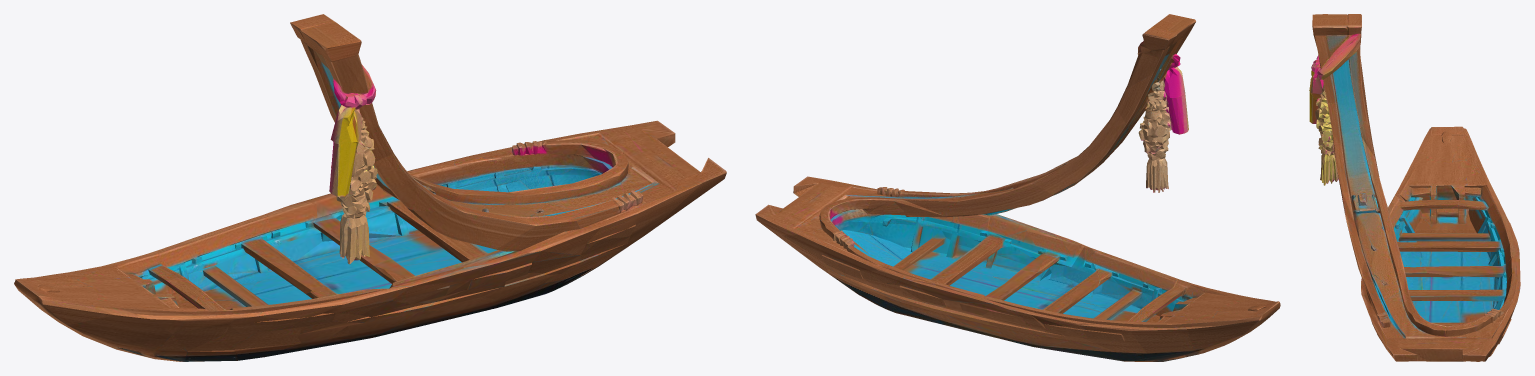
The model's file is longtail_boat.glb.
3 renders of one model, left to right at view 1: azimuth 30°, elevation 25°; view 2: azimuth 150°, elevation 25°; view 3: azimuth 270°, elevation 25°, orthographic. The views are drawn at different scales.
Visible parts, largest first — view 1: longtail_boat; view 2: longtail_boat; view 3: longtail_boat.
Boxes of the visible parts, bbox=[...] form: longtail_boat: bbox=[14, 14, 726, 361]; longtail_boat: bbox=[755, 14, 1280, 361]; longtail_boat: bbox=[1309, 14, 1520, 361].
Bounding box in the file's own units: 9 × 4.77 × 3.67.
Materials: 1 (1 with a texture image).
